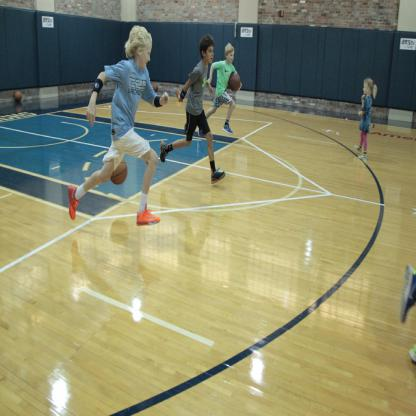Ball: (111, 160, 127, 183)
